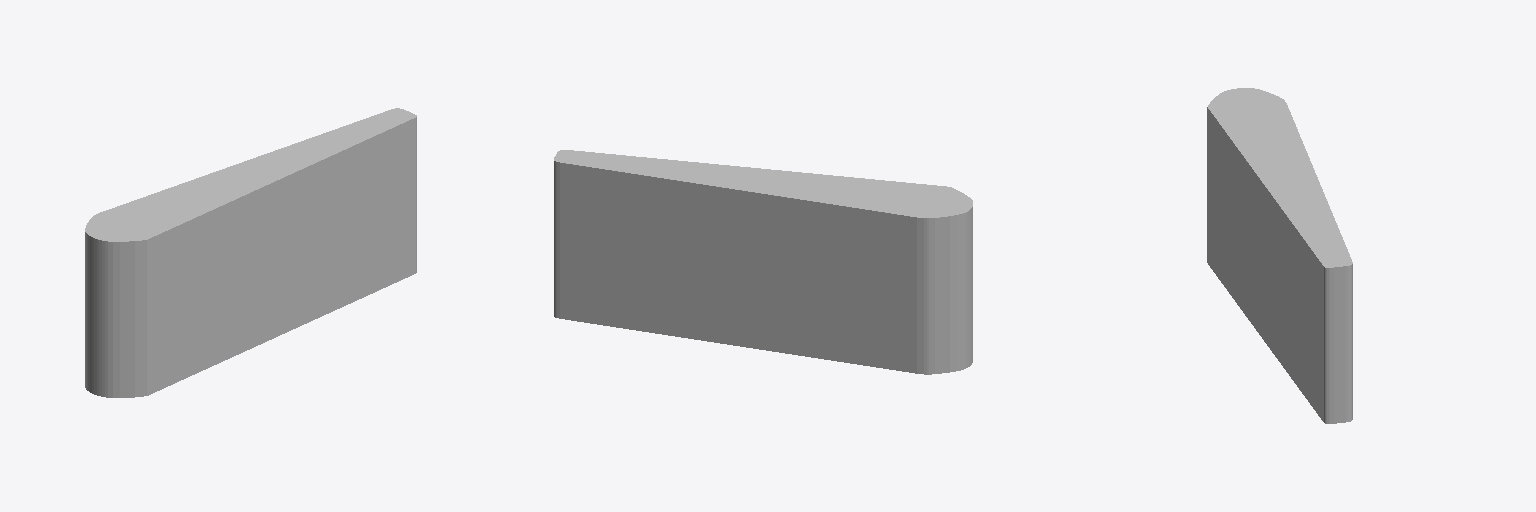
Rendered from paleta-dir.obj.
3 views of the same model, side by side, from view 1: azimuth 30°, elevation 25°; view 2: azimuth 150°, elevation 25°; view 3: azimuth 270°, elevation 25° (orthographic).
Parts seen in each view (by area): view 1: paleta-direita_Mesh.001; view 2: paleta-direita_Mesh.001; view 3: paleta-direita_Mesh.001.
Part boxes in pixels (left/top/right/bottom): paleta-direita_Mesh.001: left=85, top=108, right=416, bottom=397; paleta-direita_Mesh.001: left=554, top=150, right=972, bottom=374; paleta-direita_Mesh.001: left=1207, top=88, right=1352, bottom=423.
Bounding box in the file's own units: 0.0933 × 0.0378 × 0.0319.